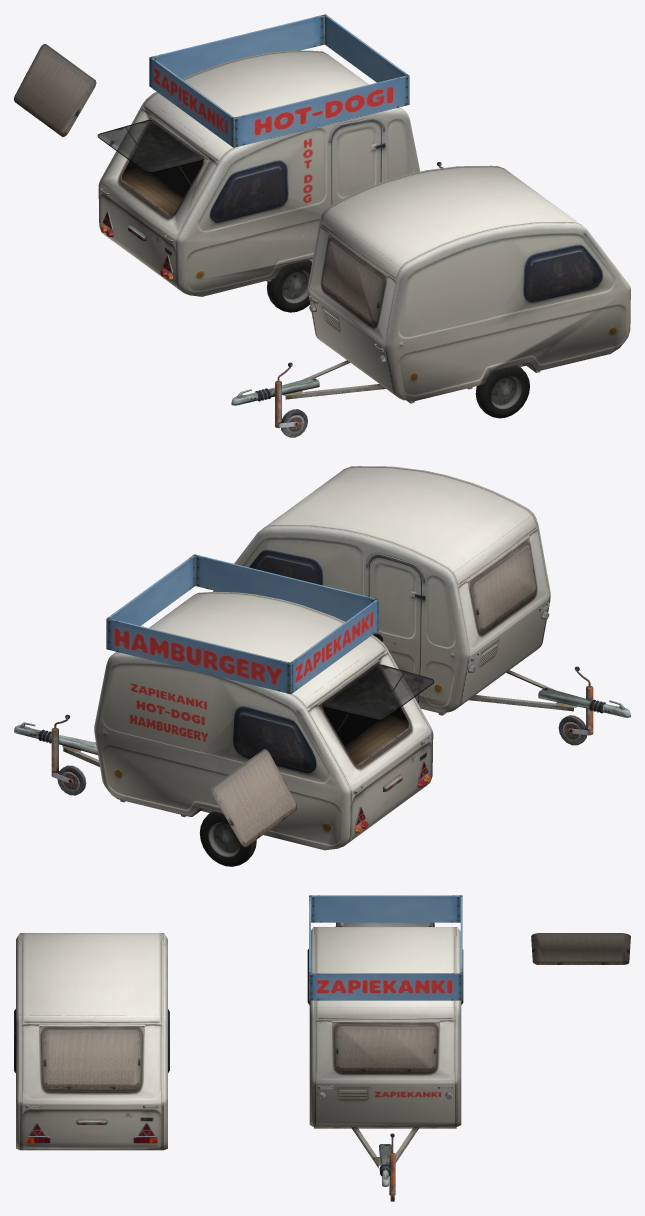
The model's file is camper.glb.
3 renders of one model, top to bottom at view 1: azimuth 30°, elevation 25°; view 2: azimuth 150°, elevation 25°; view 3: azimuth 270°, elevation 25°, orthographic. The views are drawn at different scales.
Parts seen in each view (by area): view 1: object 4, object 1, object 3, Kolo_maluch.001_0, object 5; view 2: object 4, object 1, object 3, object 5, Kolo_maluch.001_0; view 3: object 4, object 1, object 5.
Boxes of the visible parts, x1,y1,x2,y2 form: object 4: (14,14,443,296); object 1: (231,165,630,437); object 3: (122,122,203,214); Kolo_maluch.001_0: (267,259,529,418); object 5: (97,120,204,172); object 4: (14,554,433,850); object 1: (213,466,630,745); object 3: (323,667,408,764); object 5: (322,664,434,720); Kolo_maluch.001_0: (199,811,256,866); object 4: (307,895,630,1201); object 1: (14,933,169,1150); object 5: (335,922,434,926).
Size of the model in its own units: 4.61 by 2.21 by 6.31.
Materials: 5 (5 with a texture image).
